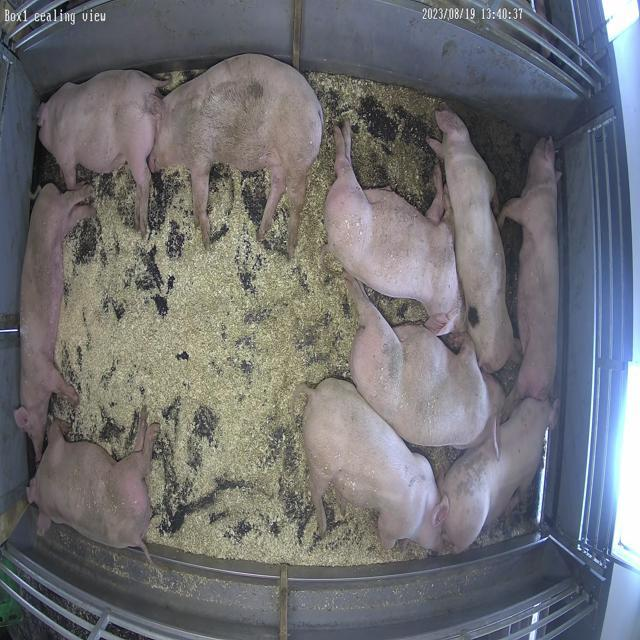Pig: (39, 54, 323, 256), (149, 54, 322, 256), (326, 121, 464, 336), (346, 274, 500, 448), (302, 379, 443, 550), (428, 107, 515, 373), (39, 70, 164, 234), (27, 416, 158, 560), (440, 400, 558, 554), (501, 138, 562, 402)
